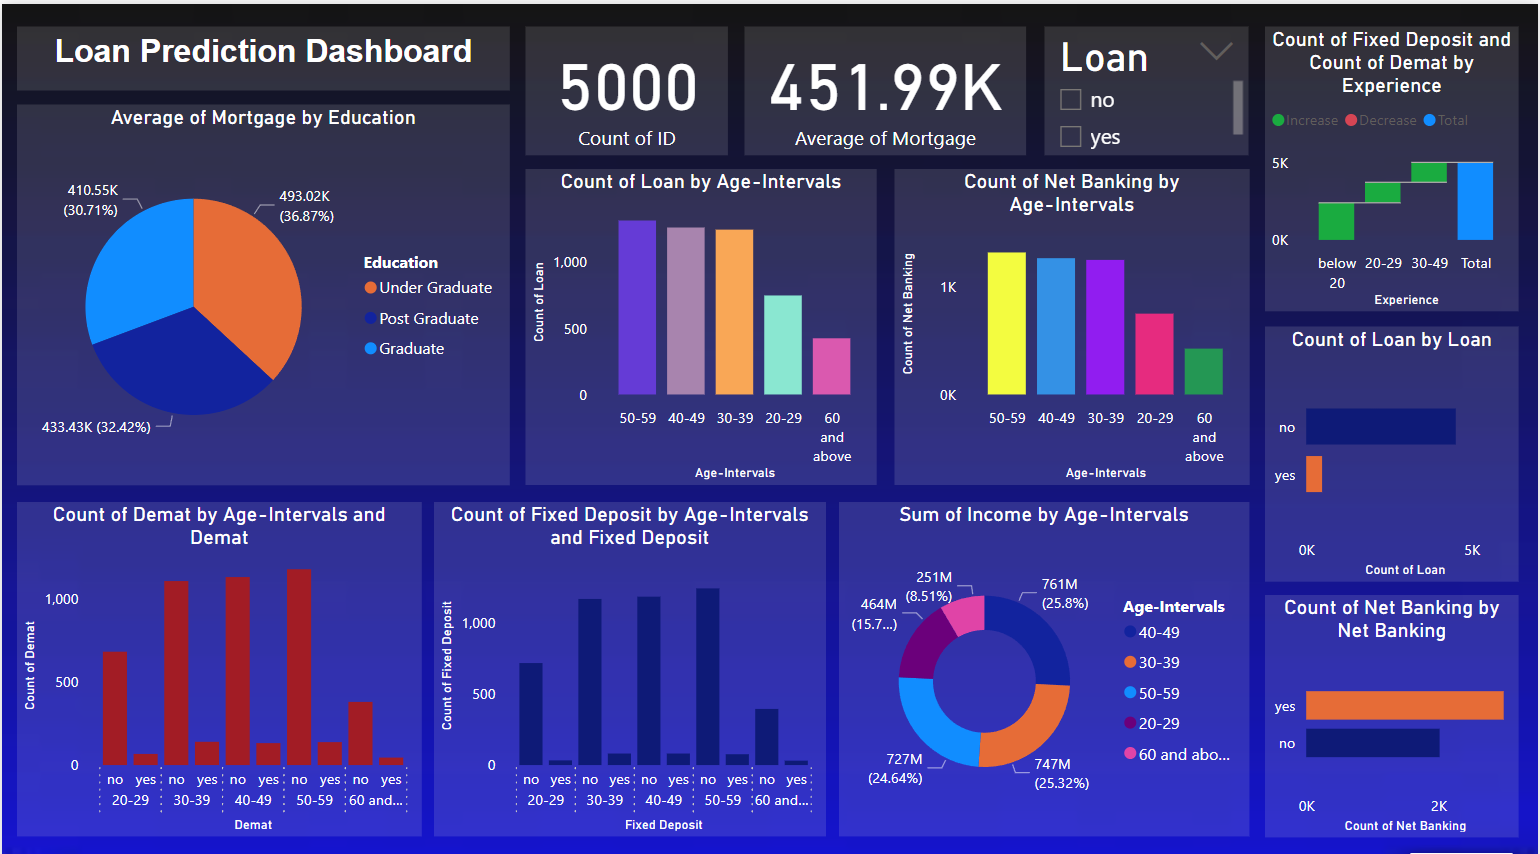

The page's visual inventory and layout, read from the dashboard file:
{"tool":"powerbi","page":{"name":"Page 1","canvas":[1280,720],"ordinal":0},"visuals":[{"type":"clusteredColumnChart","fields":{"Category":["loan_dataset.Custom"],"Y":["CountNonNull(loan_dataset.Loan)"]},"box":[436.7,137.9,292.7,263.6],"z":0},{"type":"columnChart","fields":{"Category":["loan_dataset.Custom"],"Y":["CountNonNull(loan_dataset.Net Banking)"]},"box":[743.2,137.9,295.7,263.6],"z":1000},{"type":"pieChart","fields":{"Category":["loan_dataset.Education"],"Y":["Avg(loan_dataset.Mortgage)"]},"box":[12.3,84.3,410.7,317.2],"z":2000},{"type":"barChart","fields":{"Category":["loan_dataset.Net Banking"],"Y":["CountNonNull(loan_dataset.Net Banking)"]},"box":[1052.7,491.9,211.5,202.3],"z":3000},{"type":"barChart","fields":{"Category":["loan_dataset.Loan"],"Y":["CountNonNull(loan_dataset.Loan)"]},"box":[1052.7,268.2,211.5,213],"z":4000},{"type":"donutChart","fields":{"Category":["loan_dataset.Custom"],"Y":["Sum(loan_dataset.Income)"]},"box":[697.2,415.3,341.7,278.9],"z":5000},{"type":"clusteredColumnChart","fields":{"Y":["CountNonNull(loan_dataset.Fixed Deposit)"],"Category":["loan_dataset.Custom","loan_dataset.Fixed Deposit"]},"box":[360.1,415.3,326.4,278.9],"z":6000},{"type":"clusteredColumnChart","fields":{"Y":["CountNonNull(loan_dataset.Demat)"],"Category":["loan_dataset.Custom","loan_dataset.Demat"]},"box":[12.3,415.3,337.1,278.9],"z":7000},{"type":"textbox","box":[12.3,18.4,410.7,53.6],"z":8000},{"type":"waterfallChart","fields":{"Category":["loan_dataset.Experience "],"Y":["CountNonNull(loan_dataset.Fixed Deposit)"]},"box":[1052.7,18.4,211.5,237.5],"z":9000},{"type":"card","fields":{"Values":["CountNonNull(loan_dataset.ID)"]},"box":[436.7,18.4,168.6,107.3],"z":9001},{"type":"card","fields":{"Values":["Avg(loan_dataset.Mortgage)"]},"box":[619.1,18.4,234.4,107.3],"z":9002},{"type":"slicer","fields":{"Values":["loan_dataset.Loan"]},"box":[868.8,18.4,170.1,107.3],"z":9003}]}

Visuals, with their boxes in screenshot pixels (x1, y1, x2, y2), scaled from the page's 1280x720 canvas onto the 1540x854 screenshot:
clusteredColumnChart - loan_dataset.Custom x CountNonNull(loan_dataset.Loan): 525:164:878:476
columnChart - loan_dataset.Custom x CountNonNull(loan_dataset.Net Banking): 894:164:1250:476
pieChart - loan_dataset.Education x Avg(loan_dataset.Mortgage): 15:100:509:476
barChart - loan_dataset.Net Banking x CountNonNull(loan_dataset.Net Banking): 1267:583:1521:823
barChart - loan_dataset.Loan x CountNonNull(loan_dataset.Loan): 1267:318:1521:571
donutChart - loan_dataset.Custom x Sum(loan_dataset.Income): 839:493:1250:823
clusteredColumnChart - CountNonNull(loan_dataset.Fixed Deposit) x loan_dataset.Custom: 433:493:826:823
clusteredColumnChart - CountNonNull(loan_dataset.Demat) x loan_dataset.Custom: 15:493:420:823
textbox: 15:22:509:85
waterfallChart - loan_dataset.Experience  x CountNonNull(loan_dataset.Fixed Deposit): 1267:22:1521:304
card - CountNonNull(loan_dataset.ID): 525:22:728:149
card - Avg(loan_dataset.Mortgage): 745:22:1027:149
slicer - loan_dataset.Loan: 1045:22:1250:149
